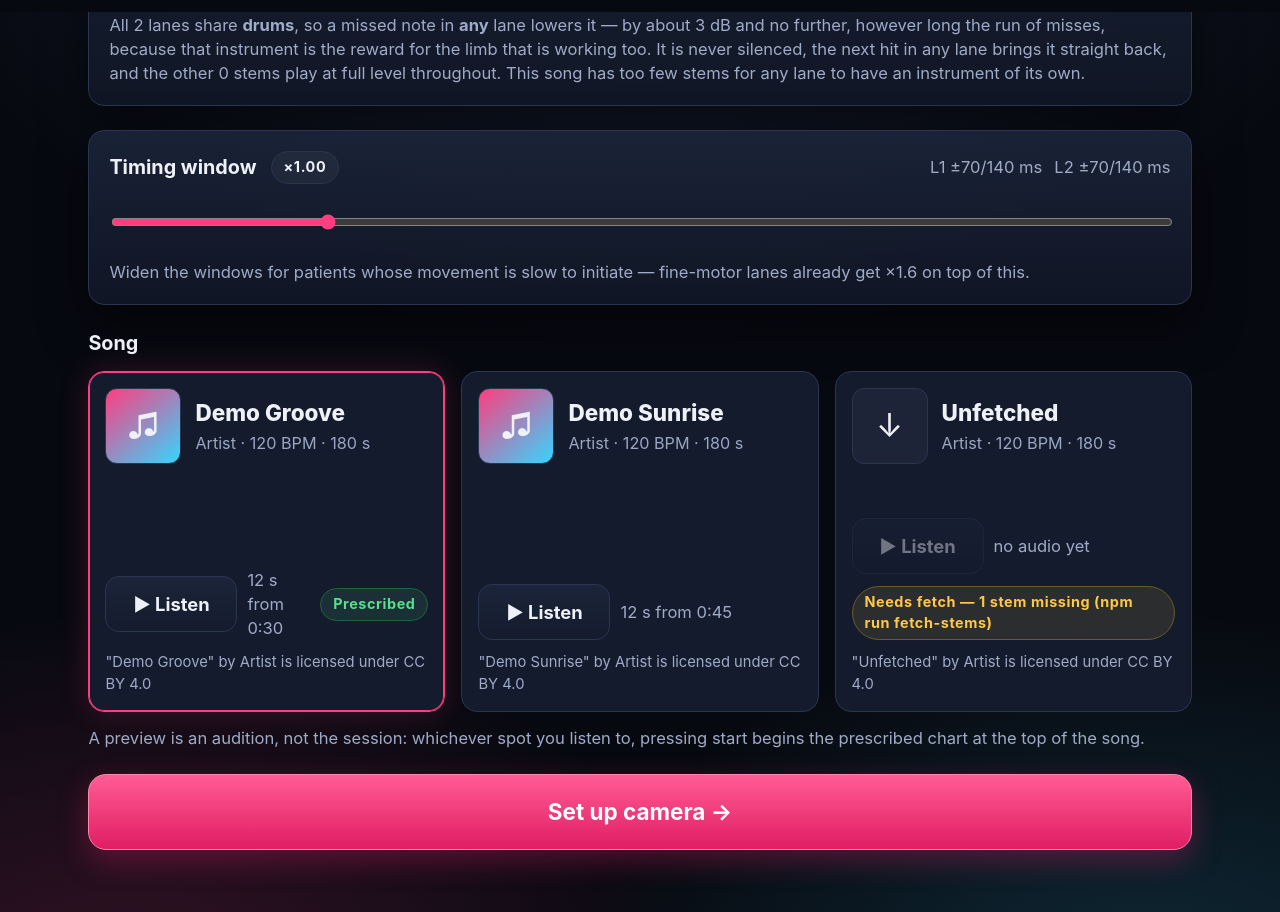
Test: song audition › the same button stops the audition
The width and height of the screenshot is (1280, 912).
(page scrolled)
Step 1. Click the button with test id "preview-demo-groove" → (171, 604), box [105, 576, 237, 632]
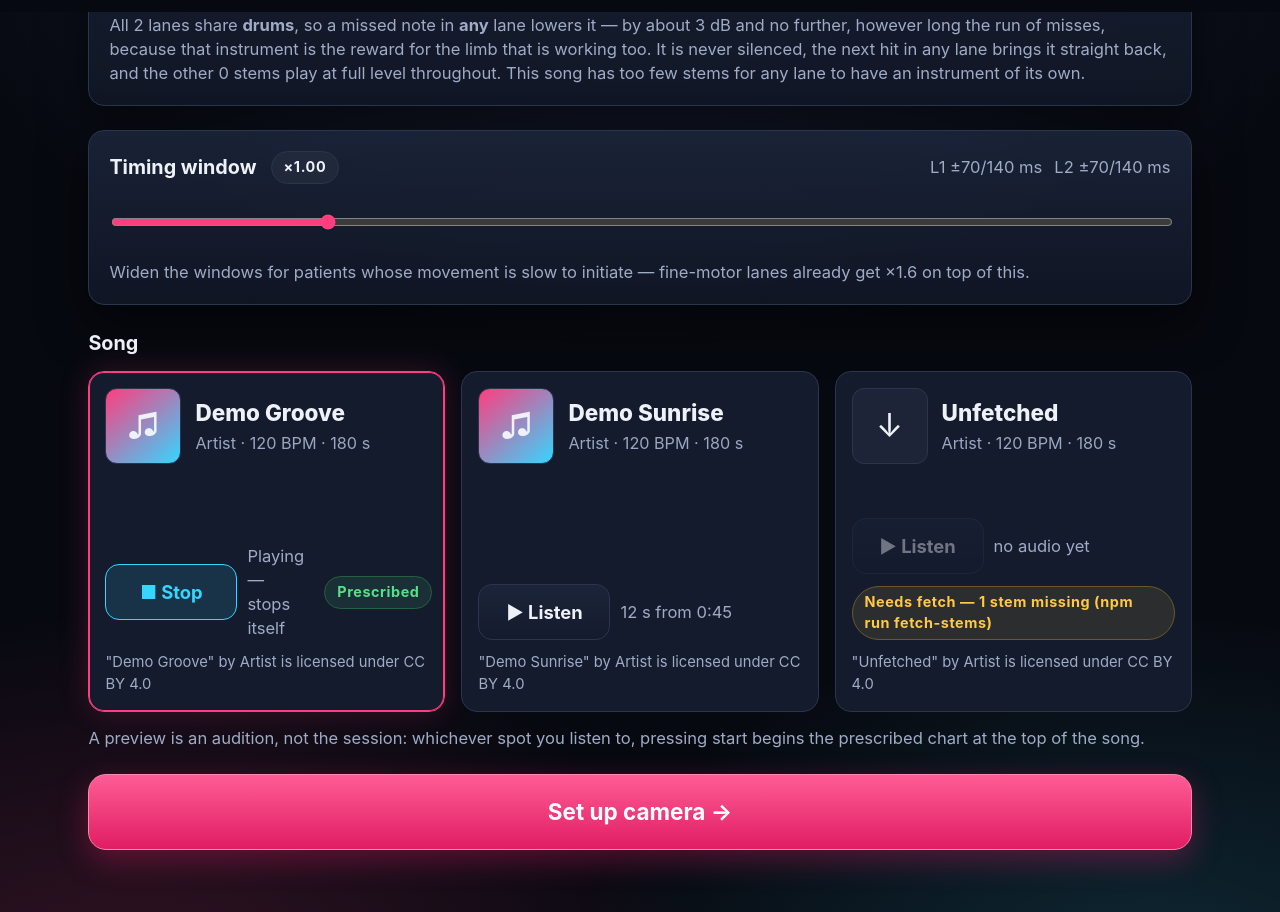
Check: the button with test id "preview-demo-groove" shows "Stop"
Step 2. Click the button with test id "preview-demo-groove" → (171, 592), box [105, 564, 237, 620]
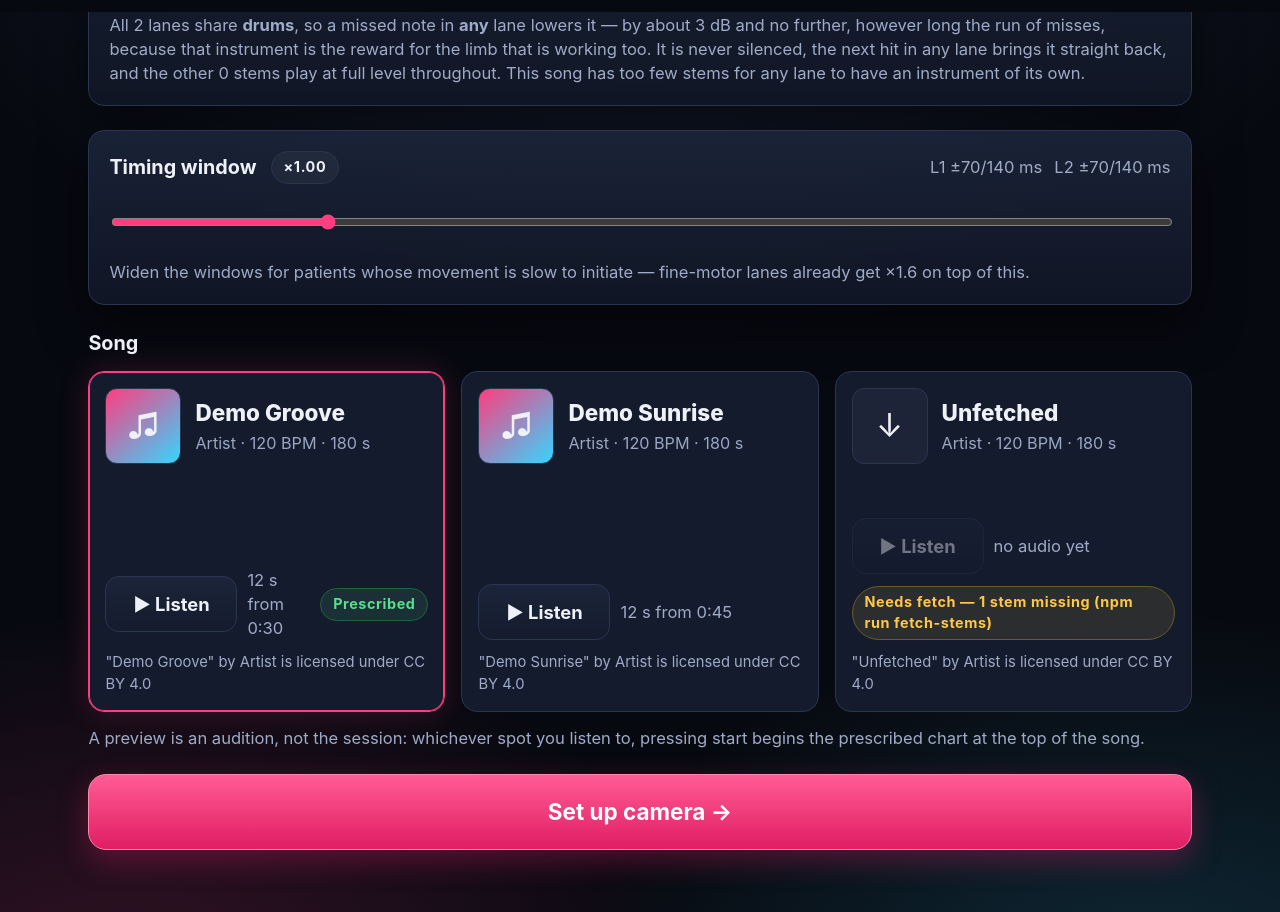
Check: the button with test id "preview-demo-groove" shows "Listen", box [105, 576, 237, 632]
